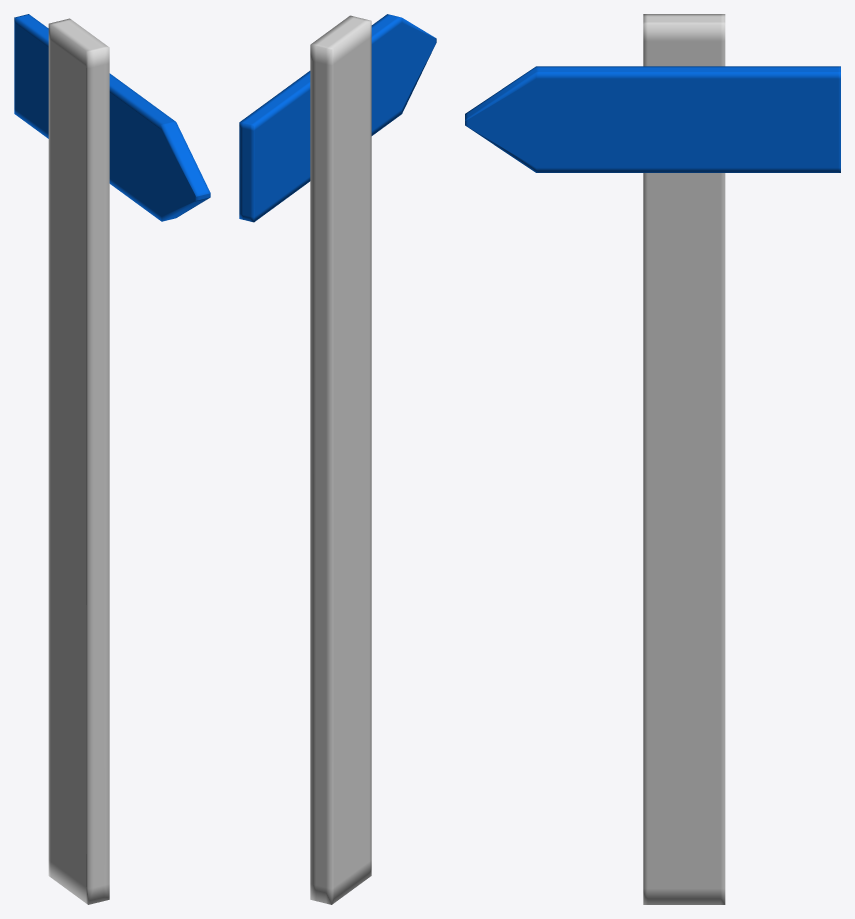
File: StreetSign.fbx
The picture shows the model from 3 angles, left to right: view 1: azimuth 30°, elevation 25°; view 2: azimuth 150°, elevation 25°; view 3: azimuth 270°, elevation 25°; orthographic projection. The views are drawn at different scales.
Visible parts, largest first — view 1: Sign_Base, Sign_Arrow; view 2: Sign_Base, Sign_Arrow; view 3: Sign_Base, Sign_Arrow.
Part boxes in pixels (<box>): Sign_Base: <box>48,18,109,904</box>; Sign_Arrow: <box>14,14,210,221</box>; Sign_Base: <box>310,15,371,904</box>; Sign_Arrow: <box>239,14,436,222</box>; Sign_Base: <box>643,14,725,904</box>; Sign_Arrow: <box>465,66,840,172</box>.
Bounding box in the file's own units: 8.08 × 182 × 70.4.
